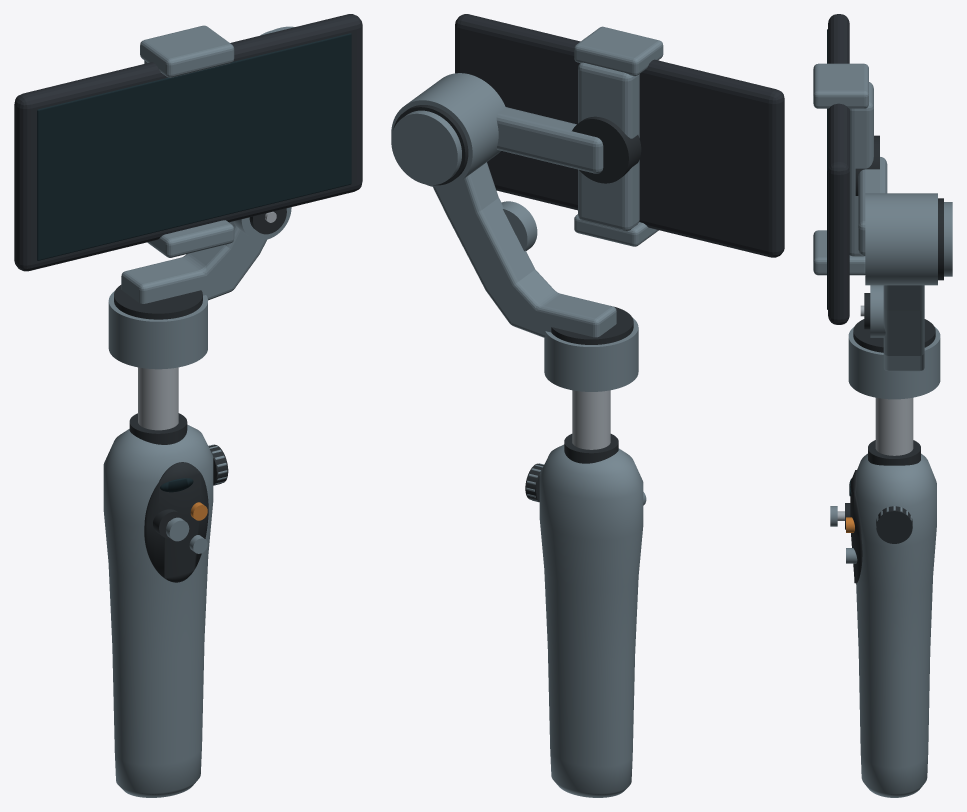
3 renders of one model, left to right at view 1: azimuth 30°, elevation 25°; view 2: azimuth 150°, elevation 25°; view 3: azimuth 270°, elevation 25°, orthographic. The views are drawn at different scales.
Parts seen in each view (by area): view 1: Blank phone glass face, Tapered handgrip with open bottom recess, Original blank landscape phone frame, Offset bent gimbal arm, Lower pan pivot motor, Projected upper control surround, Opposing phone clamp jaw 1, Exposed telescoping stem, Opposing phone clamp jaw -1, Lower pivot top seam cap, Extension stem socket; view 2: Original blank landscape phone frame, Tapered handgrip with open bottom recess, Offset bent gimbal arm, Clamp rear spine, Upper phone roll motor, Lower pan pivot motor, Generic rear motor to clamp bridge, Upper motor rear cap, Opposing phone clamp jaw 1, Generic clamp rear seating disk, Exposed telescoping stem, Opposing phone clamp jaw -1 (+4 smaller); view 3: Tapered handgrip with open bottom recess, Upper phone roll motor, Original blank landscape phone frame, Lower pan pivot motor, Offset bent gimbal arm, Opposing phone clamp jaw 1, Clamp rear spine, Exposed telescoping stem, Generic rear motor to clamp bridge, Side rotary control dial, Opposing phone clamp jaw -1, Lower pivot top seam cap (+6 smaller).
Boxes of the visible parts, box(x1,y1,x2,y2) form: Blank phone glass face: box(37, 33, 351, 260); Tapered handgrip with open bottom recess: box(103, 424, 213, 797); Original blank landscape phone frame: box(14, 14, 362, 271); Offset bent gimbal arm: box(121, 221, 266, 303); Lower pan pivot motor: box(108, 291, 207, 369); Projected upper control surround: box(144, 462, 208, 582); Opposing phone clamp jaw 1: box(140, 25, 234, 77); Exposed telescoping stem: box(138, 367, 178, 430); Opposing phone clamp jaw -1: box(147, 220, 234, 257); Lower pivot top seam cap: box(114, 285, 202, 319); Extension stem socket: box(129, 413, 187, 444); Original blank landscape phone frame: box(455, 14, 784, 257); Tapered handgrip with open bottom recess: box(539, 444, 643, 797); Offset bent gimbal arm: box(433, 162, 616, 337); Clamp rear spine: box(578, 62, 639, 231); Upper phone roll motor: box(391, 73, 505, 187); Lower pan pivot motor: box(544, 318, 638, 391); Generic rear motor to clamp bridge: box(496, 107, 603, 173); Upper motor rear cap: box(391, 110, 461, 185); Opposing phone clamp jaw 1: box(574, 26, 663, 76); Generic clamp rear seating disk: box(572, 116, 641, 183); Exposed telescoping stem: box(572, 390, 610, 449); Opposing phone clamp jaw -1: box(574, 214, 658, 246); Tapered handgrip with open bottom recess: box(855, 453, 936, 797); Upper phone roll motor: box(865, 193, 937, 285); Original blank landscape phone frame: box(828, 14, 849, 324); Lower pan pivot motor: box(848, 327, 940, 399); Offset bent gimbal arm: box(883, 285, 924, 371); Opposing phone clamp jaw 1: box(813, 63, 868, 108); Clamp rear spine: box(849, 82, 873, 256); Exposed telescoping stem: box(875, 397, 913, 455); Generic rear motor to clamp bridge: box(858, 157, 887, 256); Side rotary control dial: box(876, 506, 912, 543); Opposing phone clamp jaw -1: box(813, 230, 865, 275); Lower pivot top seam cap: box(853, 319, 935, 352).
Bounding box in the file's own units: 15.9 × 32.2 × 5.75.
